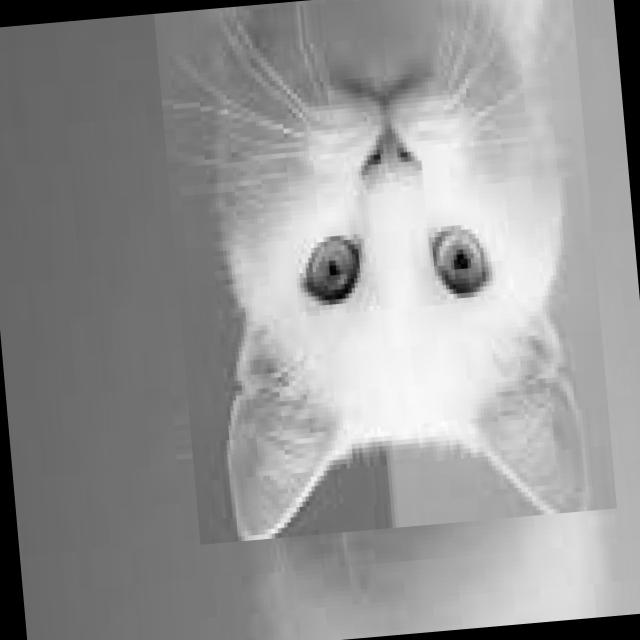van: (153, 0, 616, 544)
